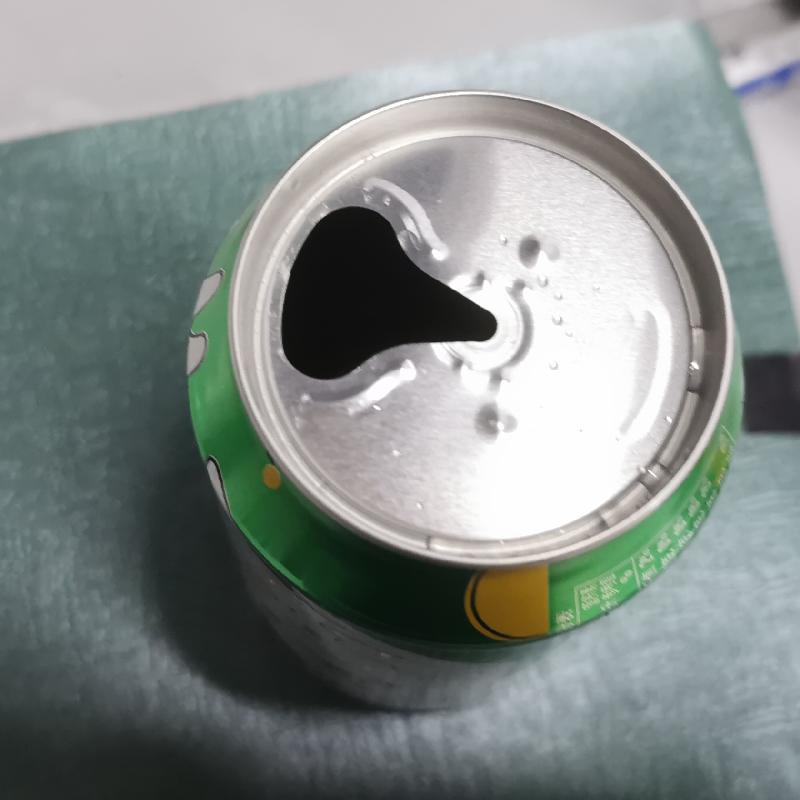cans: (170, 92, 747, 714)
